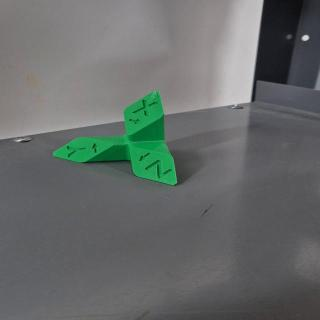eje: (50, 88, 183, 188)
